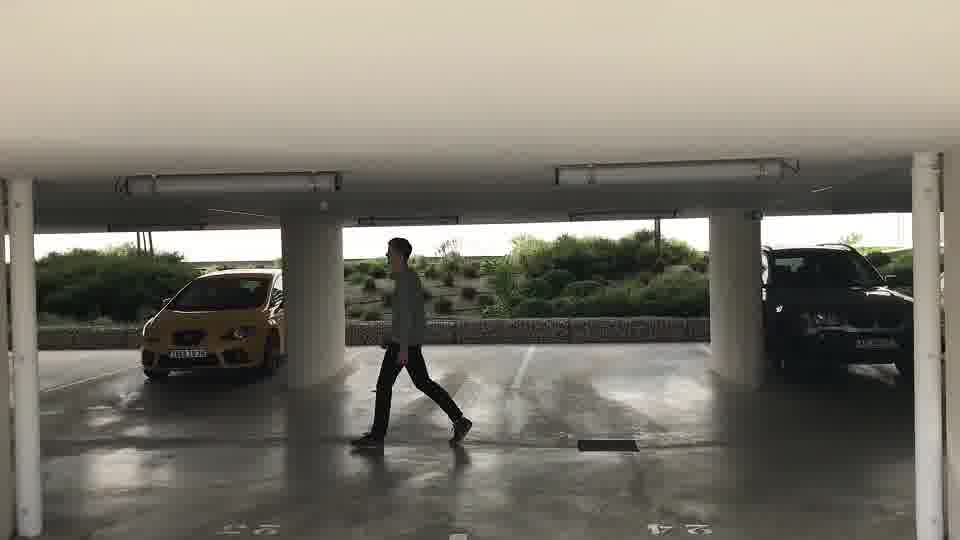jugador: (350, 235, 471, 454)
